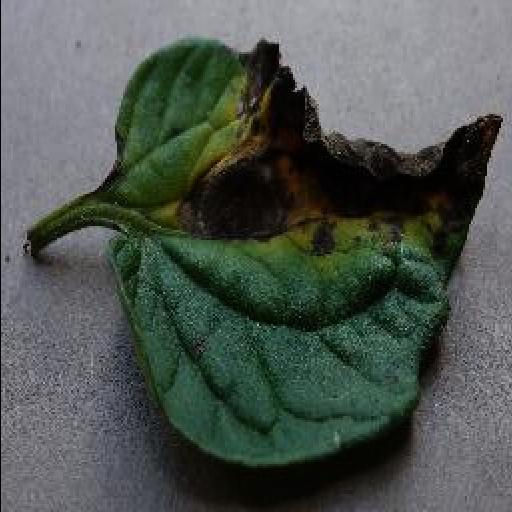disease_tomato: (104, 35, 506, 468)
